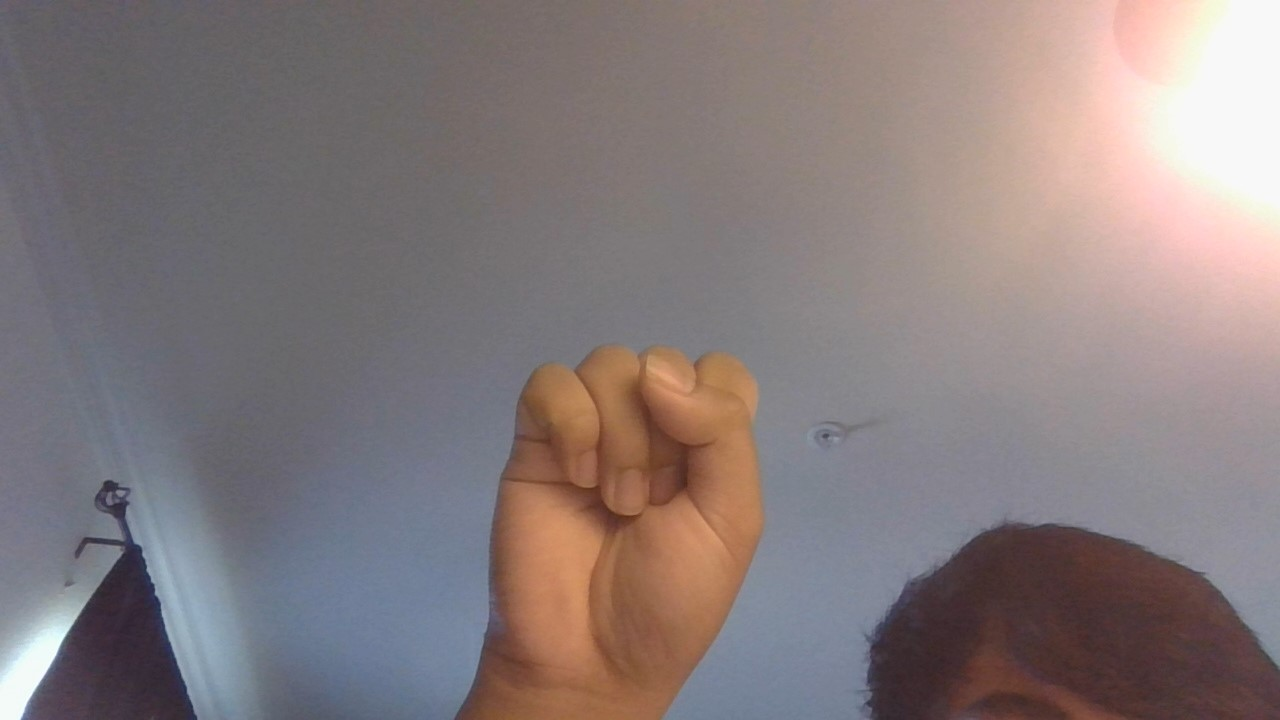s: (462, 345, 833, 706)
